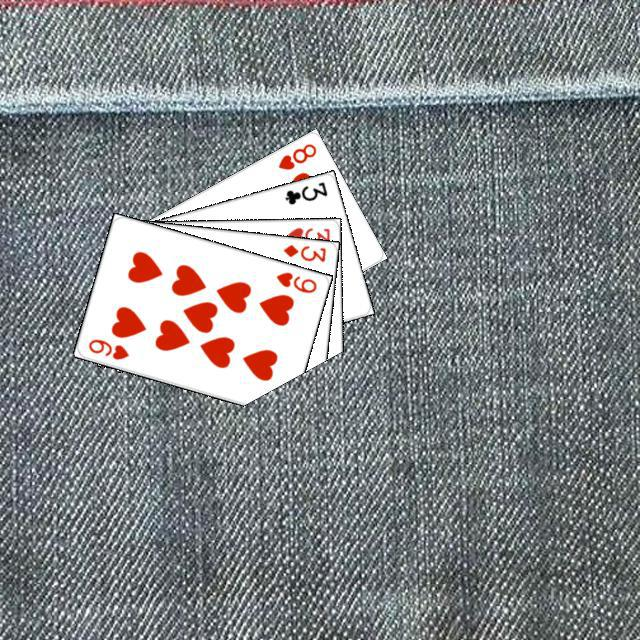3c: (280, 177, 329, 206)
3d: (278, 239, 327, 264)
3h: (283, 223, 332, 245)
8h: (273, 139, 318, 172)
9h: (271, 267, 318, 295), (83, 334, 131, 361)
